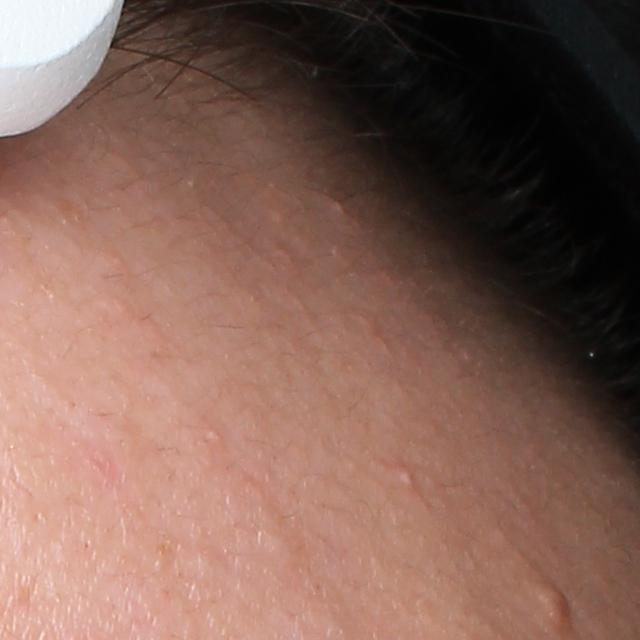papule: (530, 578, 574, 630)
